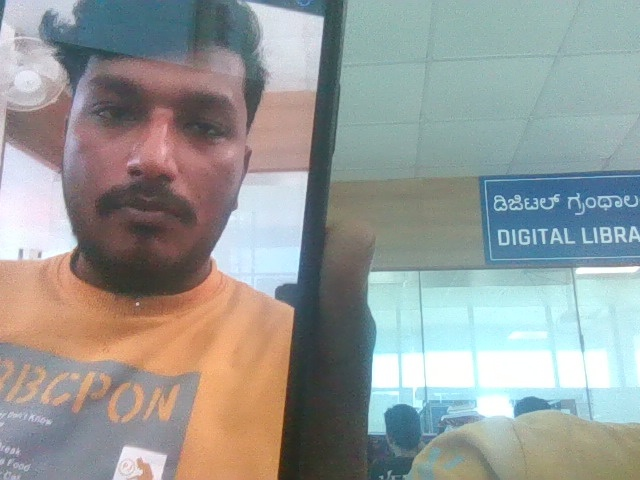fake: (30, 0, 279, 353)
